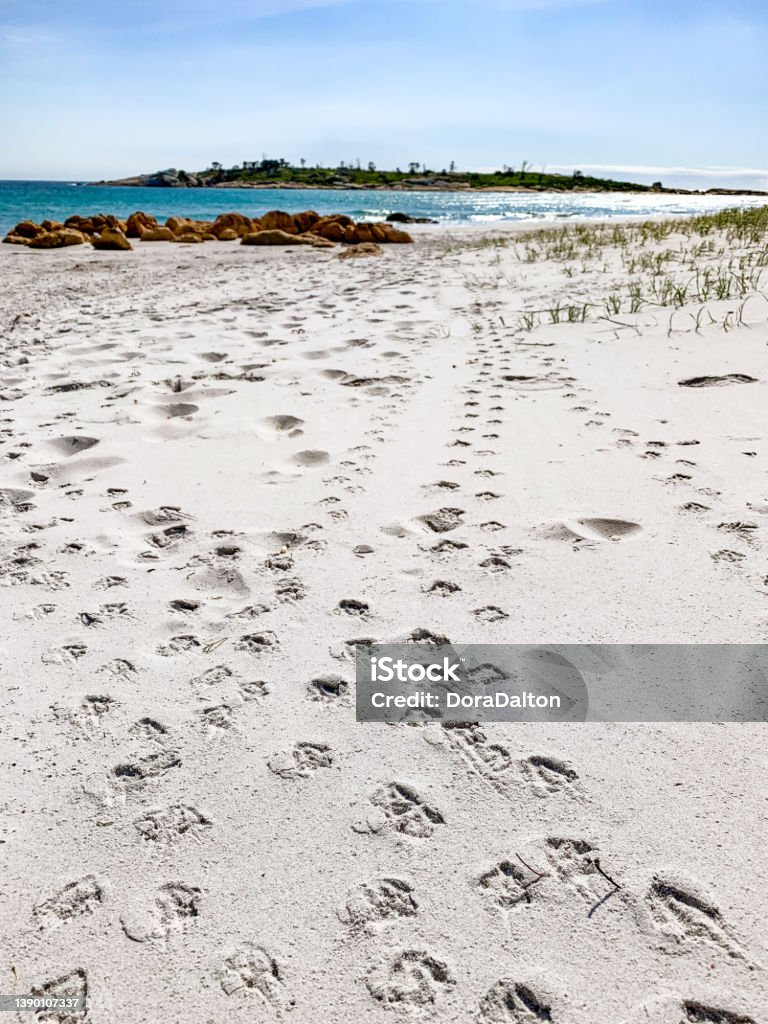animal_footprint: (640, 876, 744, 957), (443, 723, 519, 796), (367, 949, 454, 1009), (355, 782, 444, 837), (217, 943, 290, 1009), (121, 882, 200, 942), (338, 877, 417, 929), (33, 875, 105, 931), (478, 979, 552, 1023), (30, 968, 88, 1023), (478, 859, 541, 909), (133, 803, 211, 843), (111, 749, 180, 790), (267, 741, 334, 779), (520, 755, 581, 796), (307, 674, 349, 703)
